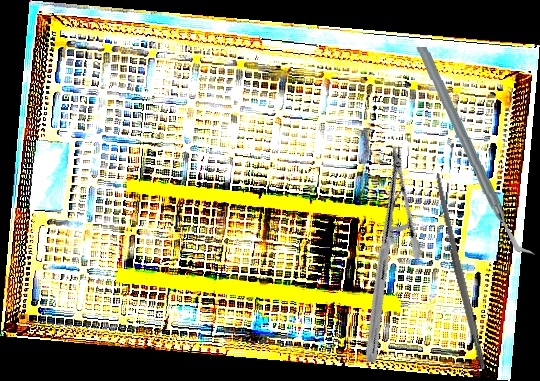Chopper: (414, 43, 536, 259)
Needle Holder: (295, 143, 473, 366)
Pusher: (443, 226, 485, 361)
Scalpel Handle: (432, 172, 487, 371)
